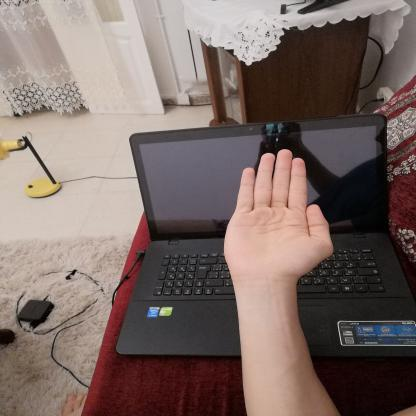SEEN: (214, 140, 343, 284)
